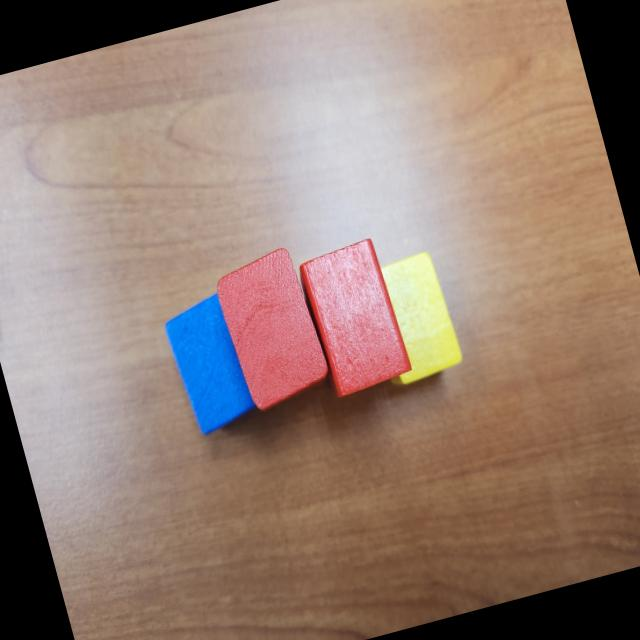blue: (160, 291, 260, 439)
red: (210, 243, 336, 416), (294, 236, 415, 400)
yellow: (358, 248, 466, 389)
